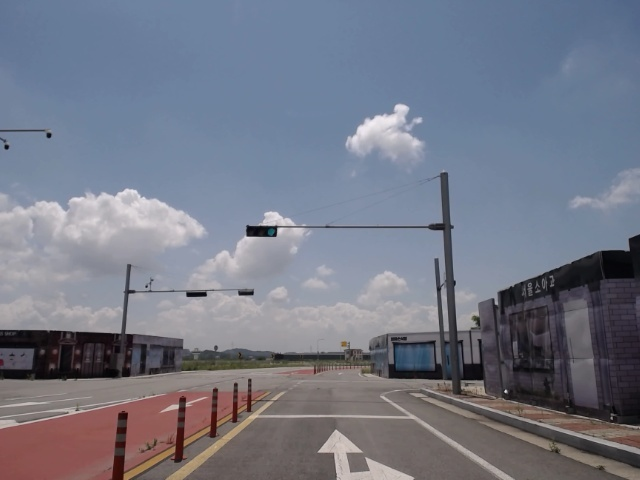green_3: (247, 227, 276, 238)
